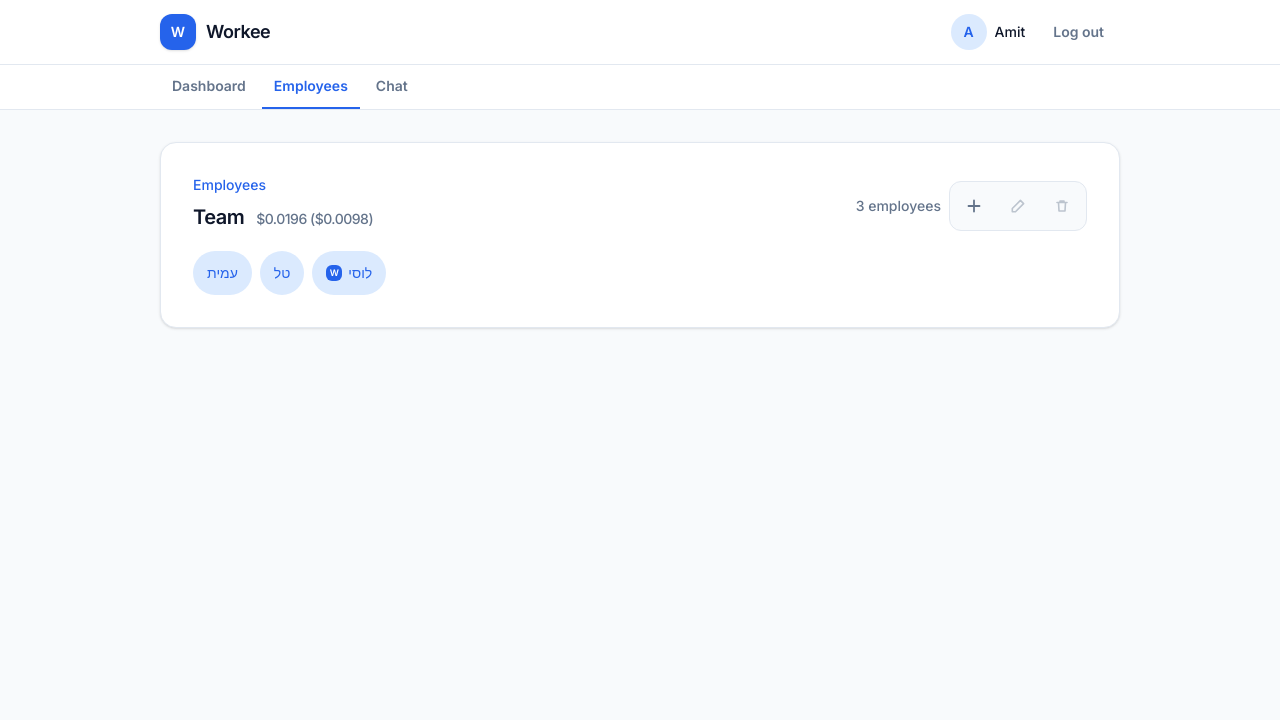
Scenario: Employees page › shows saved lists, tasks, and filings with creator and time
Click the button titled "עמית חתן · amit@example.com · 050-0000001". click: (222, 273)
box: [193,251,252,295]
(page scrolled)
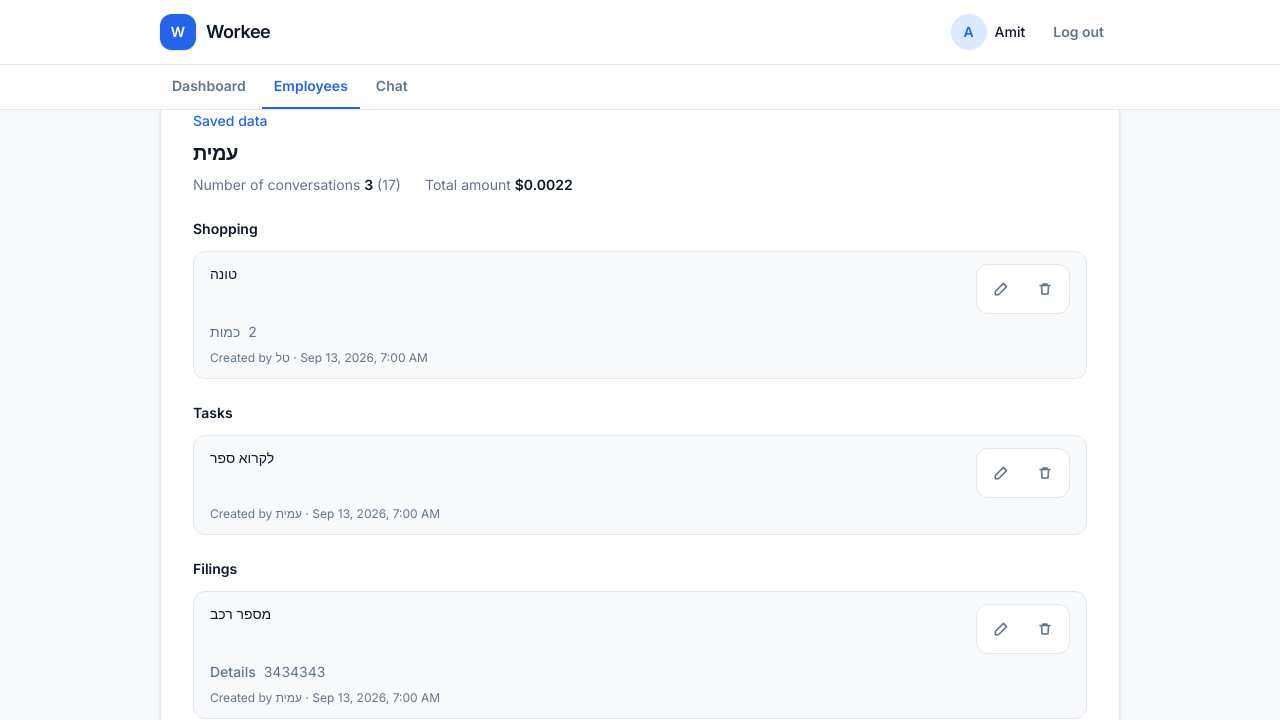
Check: the element with test id "employee-records" shows "Shopping", box [193,220,258,237]
Check: the element with test id "employee-records" shows "טונה", box [210,265,237,282]
Check: the element with test id "employee-records" shows "כמות", box [210,323,240,340]
